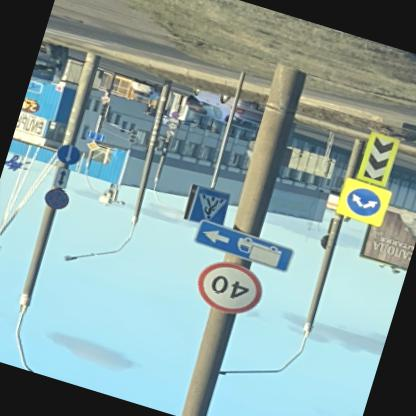crosswalk: (185, 184, 232, 232)
speedlimit: (191, 254, 268, 323)
